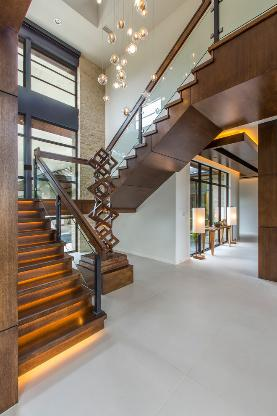stair: (3, 183, 112, 385)
